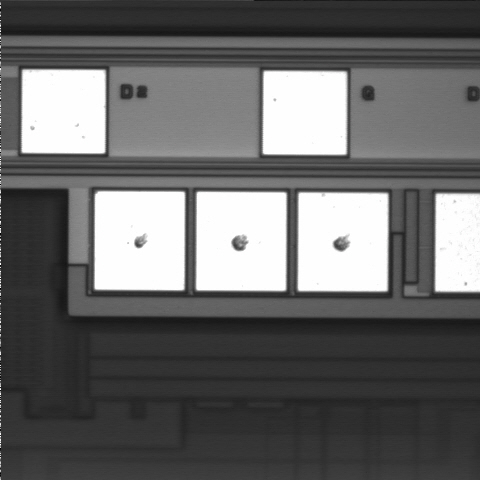pad: (95, 191, 185, 290), (196, 192, 286, 291), (298, 193, 388, 291), (263, 71, 347, 155), (22, 70, 105, 153)
